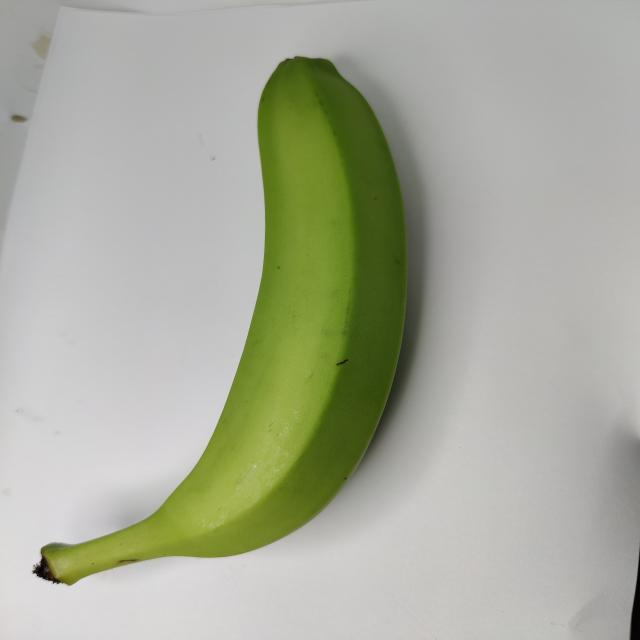raw: (13, 35, 456, 615)
